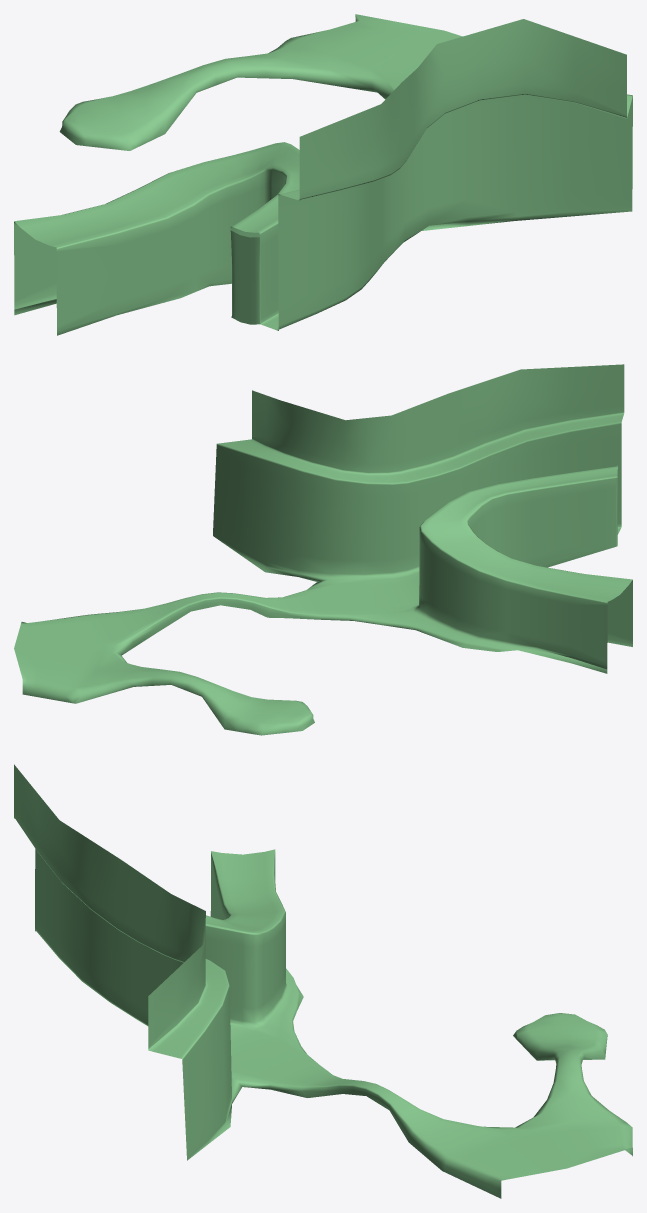
File: terrain_W1A5.fbx
The picture shows the model from 3 angles, top to bottom: view 1: azimuth 30°, elevation 25°; view 2: azimuth 150°, elevation 25°; view 3: azimuth 270°, elevation 25°; orthographic projection. The views are drawn at different scales.
Parts seen in each view (by area): view 1: W1A5_mesh; view 2: W1A5_mesh; view 3: W1A5_mesh.
Part boxes in pixels (<box>): W1A5_mesh: <box>14,14,632,335</box>; W1A5_mesh: <box>14,364,632,735</box>; W1A5_mesh: <box>14,764,632,1198</box>.
Size of the model in its own units: 23824 by 9687 by 23832.
